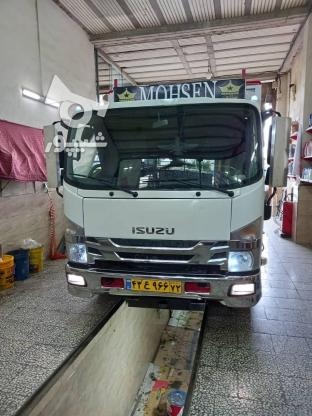car: (123, 278, 187, 291)
